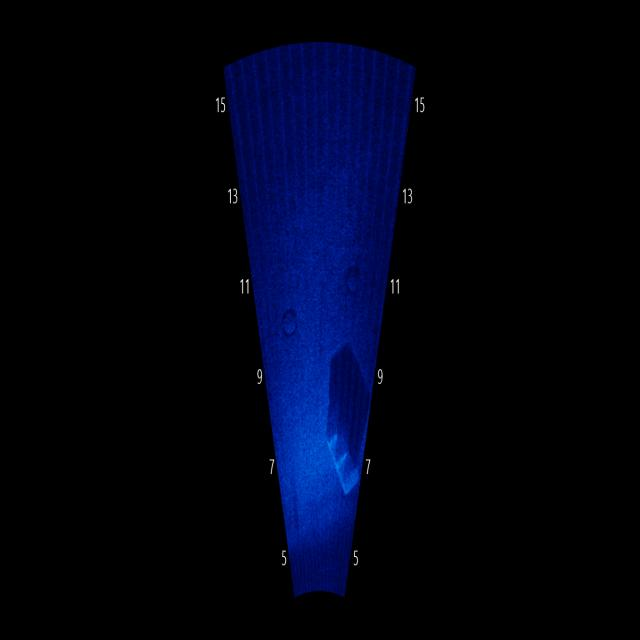square: (314, 403, 365, 509)
